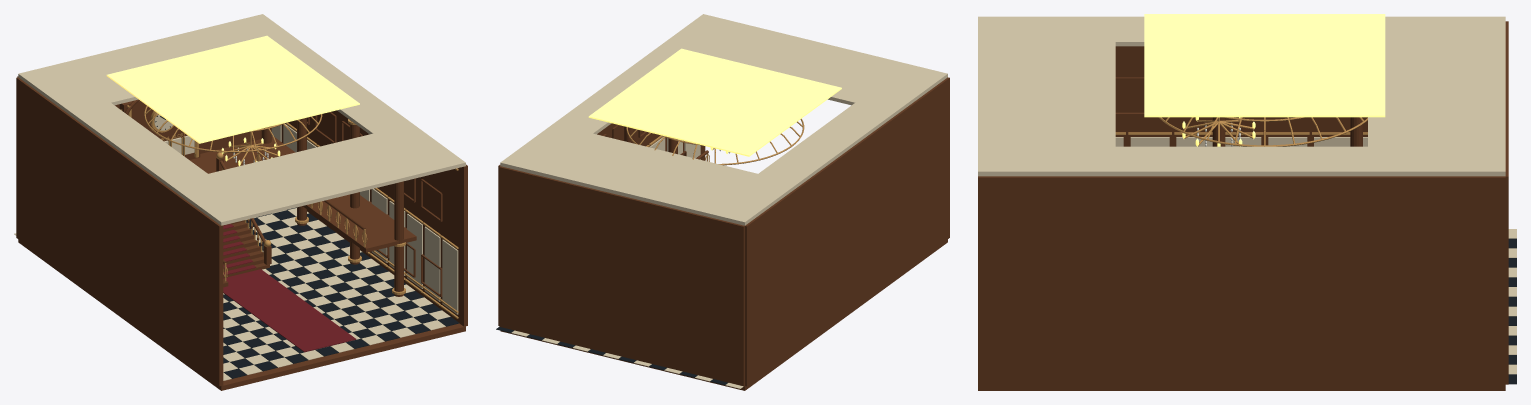
The model's file is staircase.glb.
The picture shows the model from 3 angles, left to right: view 1: azimuth 30°, elevation 25°; view 2: azimuth 150°, elevation 25°; view 3: azimuth 270°, elevation 25°; orthographic projection. The views are drawn at different scales.
Parts seen in each view (by area): view 1: GRAND STAIRCASE 09 | Carved dark oak, GRAND STAIRCASE 10 | Linen and plaster, GRAND STAIRCASE 08 | Amber light behind glass, GRAND STAIRCASE 07 | Black iron, GRAND STAIRCASE 11 | Burgundy velvet, GRAND STAIRCASE 05 | Brushed brass; view 2: GRAND STAIRCASE 09 | Carved dark oak, GRAND STAIRCASE 10 | Linen and plaster, GRAND STAIRCASE 08 | Amber light behind glass, GRAND STAIRCASE 05 | Brushed brass, GRAND STAIRCASE 07 | Black iron; view 3: GRAND STAIRCASE 09 | Carved dark oak, GRAND STAIRCASE 10 | Linen and plaster, GRAND STAIRCASE 08 | Amber light behind glass, GRAND STAIRCASE 05 | Brushed brass, GRAND STAIRCASE 07 | Black iron.
Boxes of the visible parts, x1=… form: GRAND STAIRCASE 09 | Carved dark oak: x1=16, y1=76, x2=467, y2=390; GRAND STAIRCASE 10 | Linen and plaster: x1=14, y1=14, x2=465, y2=380; GRAND STAIRCASE 08 | Amber light behind glass: x1=106, y1=35, x2=359, y2=143; GRAND STAIRCASE 07 | Black iron: x1=155, y1=116, x2=459, y2=378; GRAND STAIRCASE 11 | Burgundy velvet: x1=223, y1=224, x2=356, y2=352; GRAND STAIRCASE 05 | Brushed brass: x1=121, y1=105, x2=458, y2=318; GRAND STAIRCASE 09 | Carved dark oak: x1=498, y1=77, x2=949, y2=390; GRAND STAIRCASE 10 | Linen and plaster: x1=500, y1=14, x2=947, y2=388; GRAND STAIRCASE 08 | Amber light behind glass: x1=588, y1=48, x2=841, y2=156; GRAND STAIRCASE 05 | Brushed brass: x1=626, y1=118, x2=804, y2=165; GRAND STAIRCASE 07 | Black iron: x1=496, y1=327, x2=727, y2=385; GRAND STAIRCASE 09 | Carved dark oak: x1=978, y1=21, x2=1508, y2=390; GRAND STAIRCASE 10 | Linen and plaster: x1=978, y1=16, x2=1516, y2=374; GRAND STAIRCASE 08 | Amber light behind glass: x1=1144, y1=14, x2=1385, y2=117; GRAND STAIRCASE 05 | Brushed brass: x1=1115, y1=117, x2=1367, y2=146; GRAND STAIRCASE 07 | Black iron: x1=1508, y1=238, x2=1516, y2=384.
Size of the model in its own units: 16.25 by 11.95 by 23.49.
